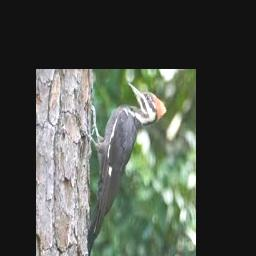Woodpecker: (86, 83, 167, 256)
